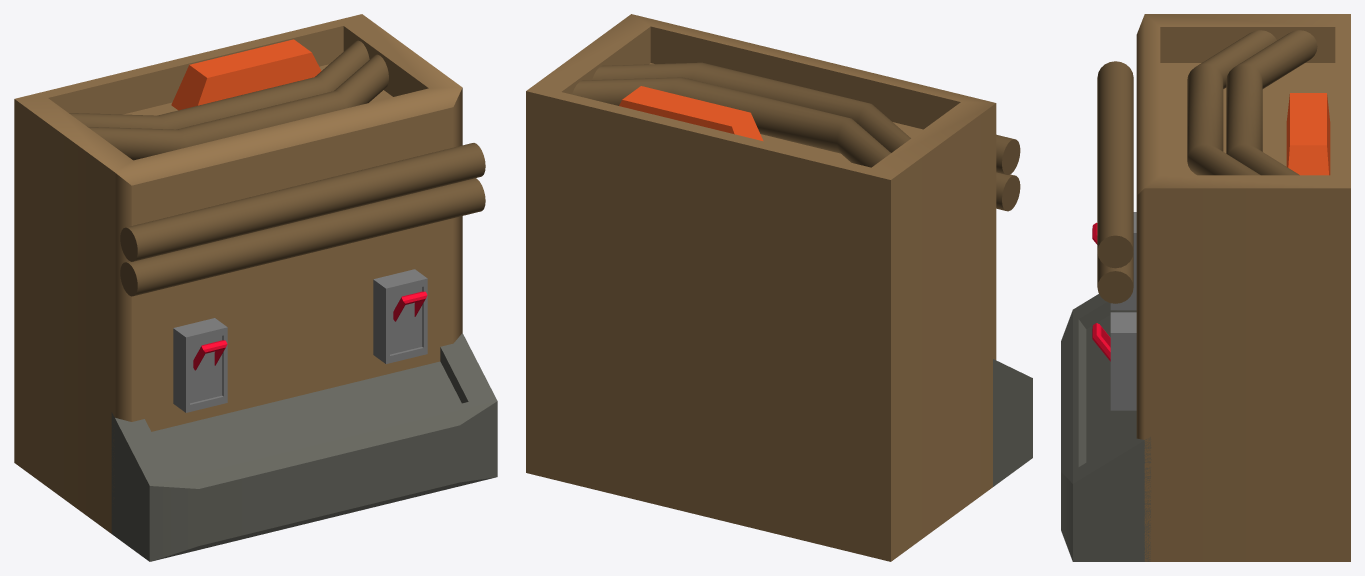
Rendered from JT_WallVariant_001_Temp 1.fbx.
3 views of the same model, side by side, from view 1: azimuth 30°, elevation 25°; view 2: azimuth 150°, elevation 25°; view 3: azimuth 270°, elevation 25° (orthographic). The views are drawn at different scales.
Visible parts, largest first — view 1: JT_WallVariant_001_Temp; view 2: JT_WallVariant_001_Temp; view 3: JT_WallVariant_001_Temp.
Part boxes in pixels (x1,y1,x2,y2): JT_WallVariant_001_Temp: (14,14,497,561); JT_WallVariant_001_Temp: (526,14,1032,561); JT_WallVariant_001_Temp: (1061,14,1350,561).
Bounding box in the file's own units: 1 × 1.01 × 0.703.
